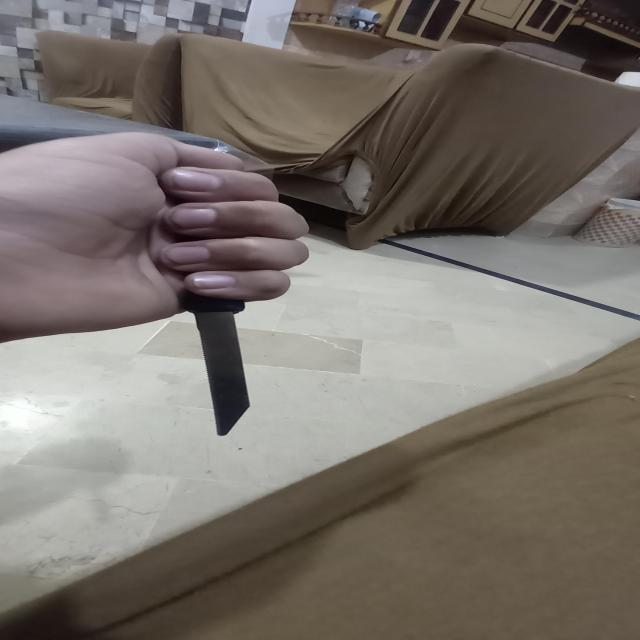Knife: (181, 294, 250, 437)
Person: (0, 132, 312, 342)
